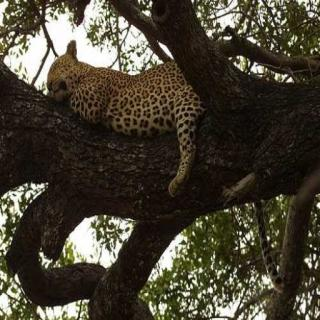Leopard: (21, 26, 258, 168)
